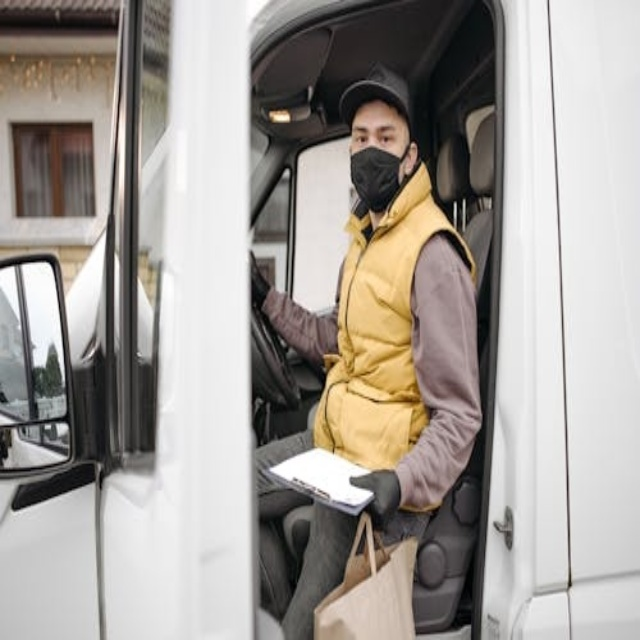Guantes: (350, 469, 402, 530), (251, 252, 273, 308)
Mascara: (349, 143, 407, 211)
Sin_gafas: (353, 115, 399, 146)
